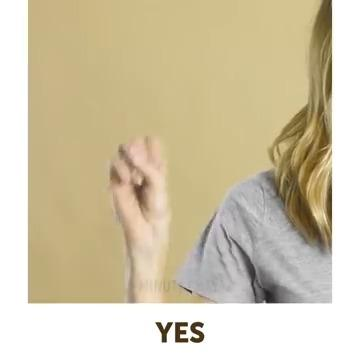Yes: (95, 126, 196, 268)
